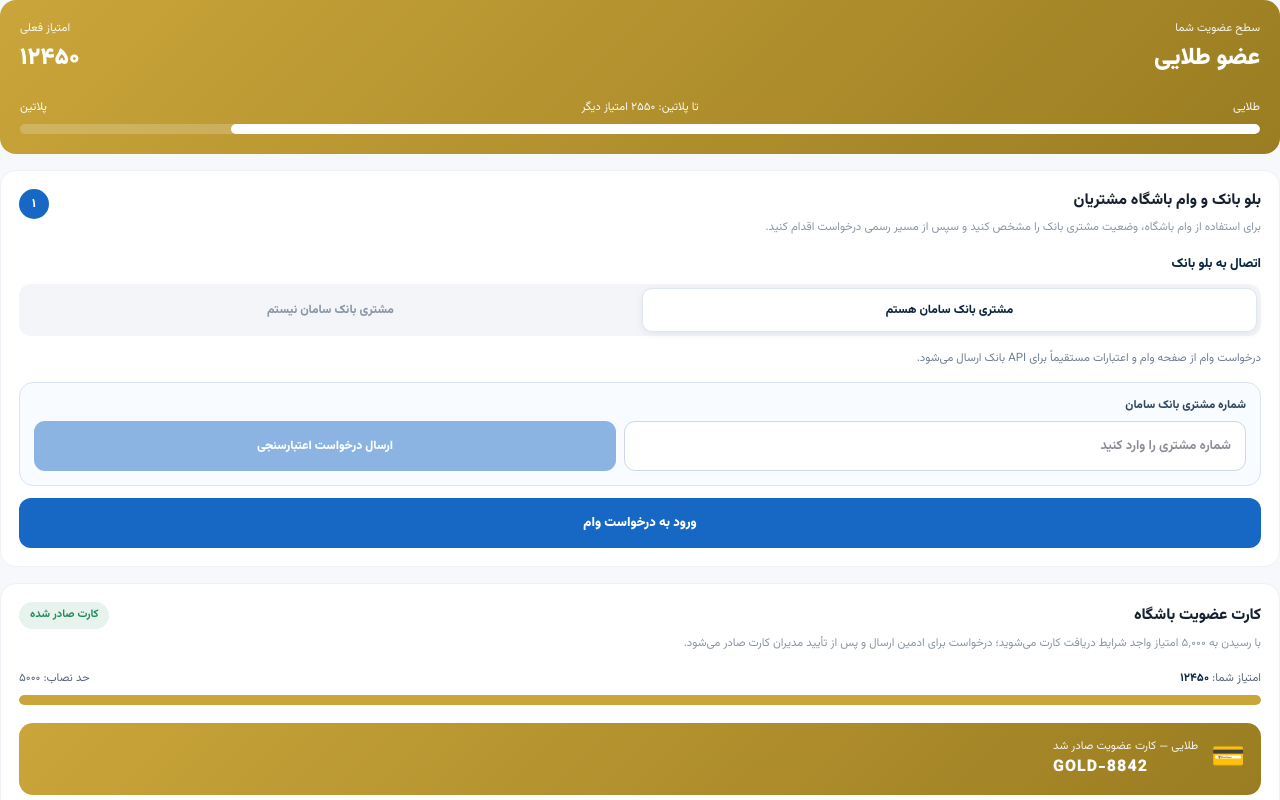
Test case: AccountClubTab › shows the membership card and the real bank-loan entry paths
Check: the heading "کارت عضویت باشگاه" is shown, box [1134,604,1261,627]
Check: the element with test id "club-bank-loan-section" is shown, box [0,170,1279,568]
Click the button with test id "club-bank-non-customer" at (330, 310), box [23,288,638,332]
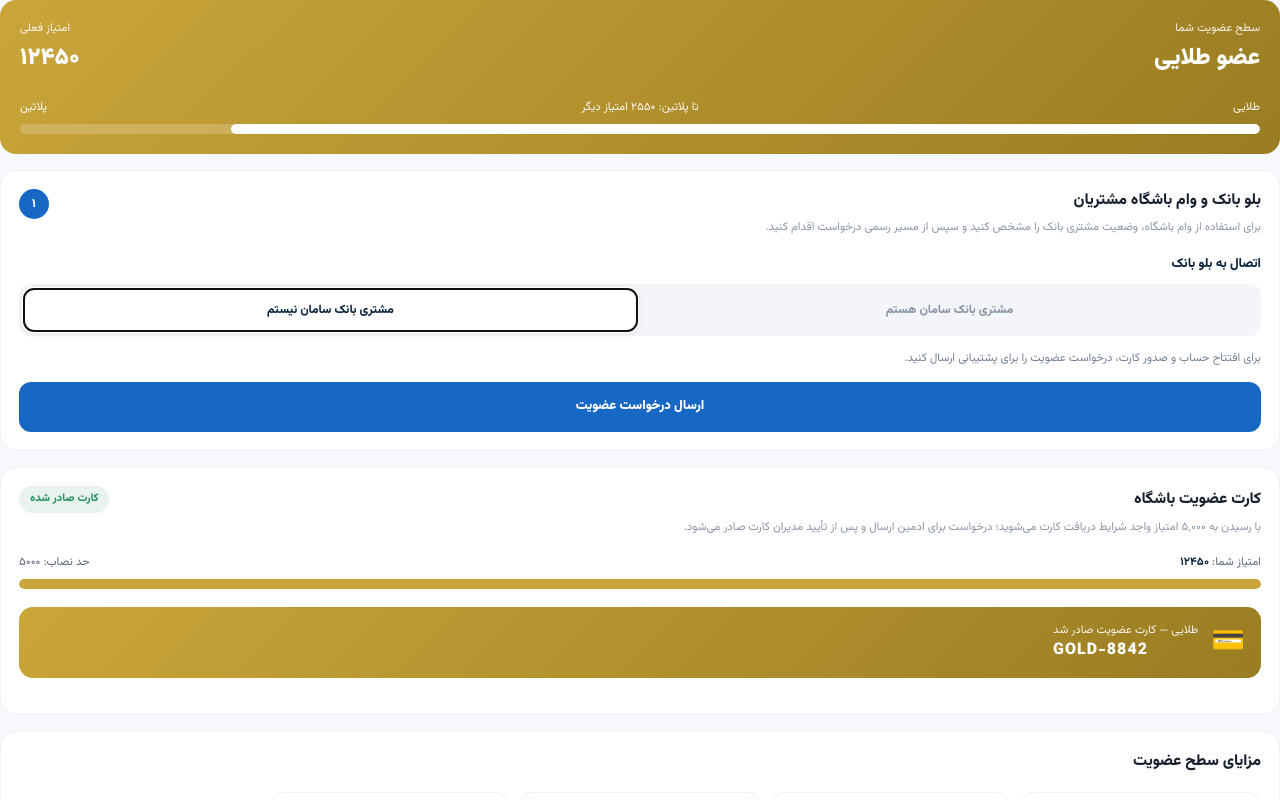
Check: the link with test id "club-bank-action" reads "ارسال درخواست عضویت", box [19,382,1261,432]
